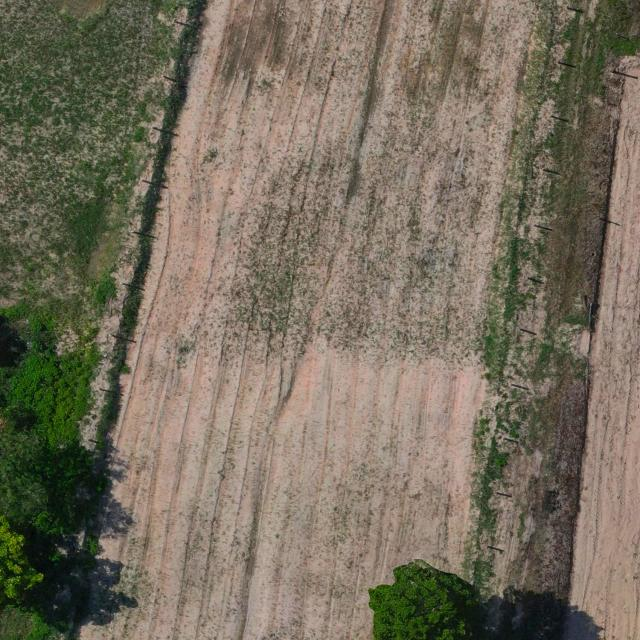Tree: (366, 556, 478, 640), (0, 429, 53, 520), (0, 509, 46, 604)
